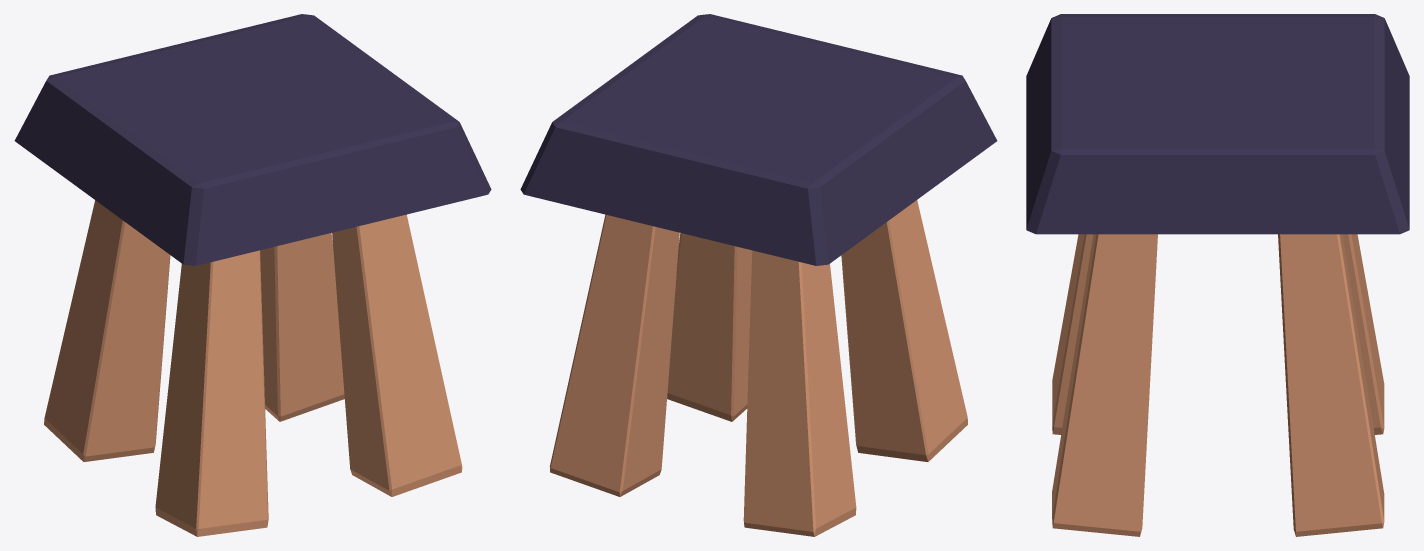
The model's file is classic_stool.fbx.
3 renders of one model, left to right at view 1: azimuth 30°, elevation 25°; view 2: azimuth 150°, elevation 25°; view 3: azimuth 270°, elevation 25°, orthographic. The views are drawn at different scales.
Visible parts, largest first — view 1: ClassicStool; view 2: ClassicStool; view 3: ClassicStool.
Part boxes in pixels (box(x1,y1,x2,y2)): ClassicStool: box(14, 14, 491, 536); ClassicStool: box(520, 14, 997, 536); ClassicStool: box(1026, 14, 1409, 536).
Size of the model in its own units: 199 by 225 by 199.
